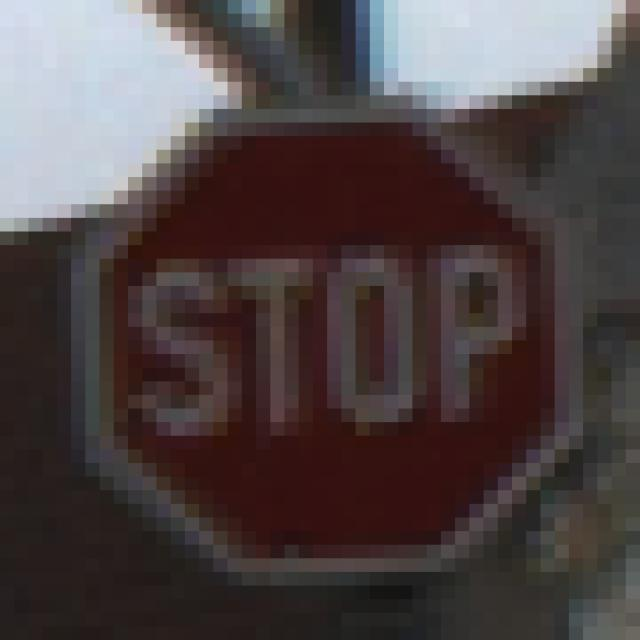STOP: (72, 83, 570, 573)
